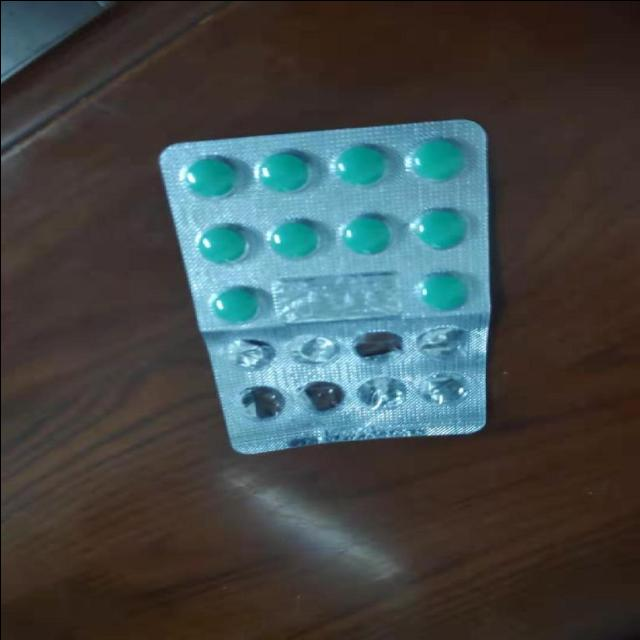-Hazardous waste - medicine inner packaging-: (153, 112, 497, 454)
